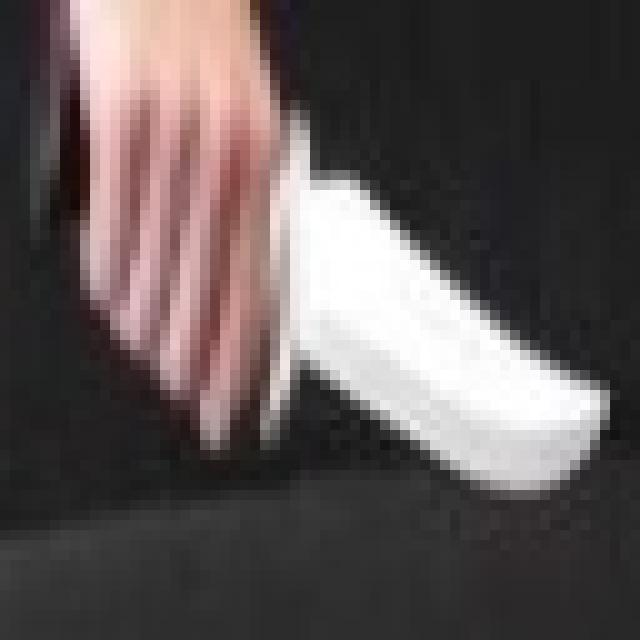knife: (0, 51, 640, 420)
